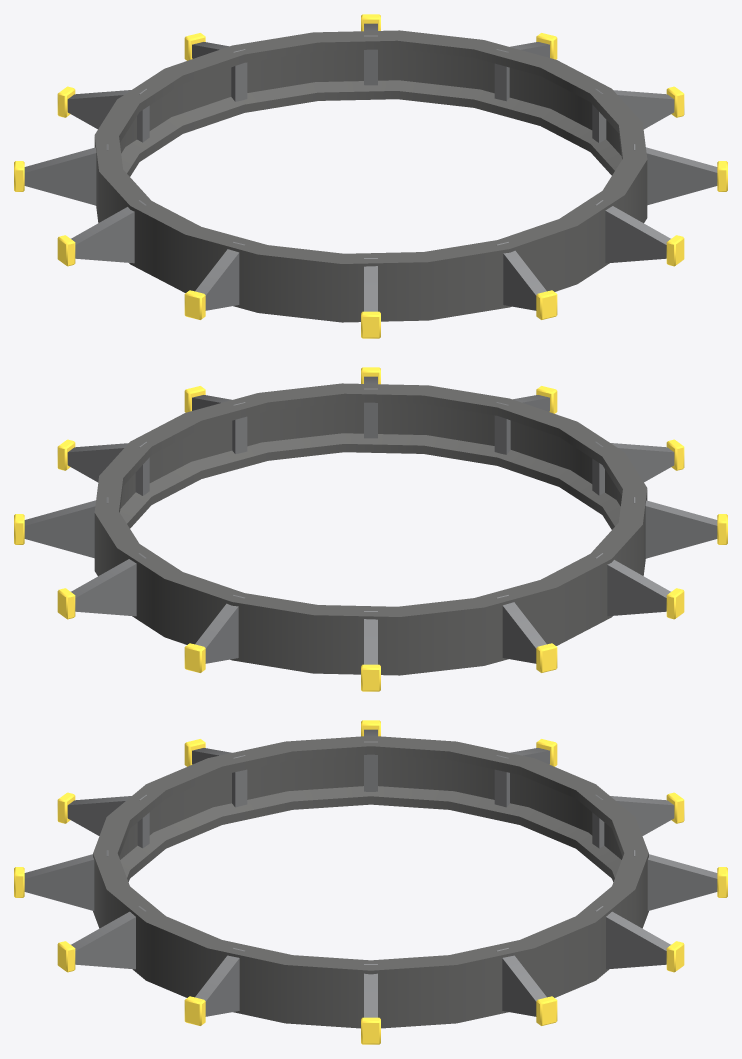
File: prop_spire_collar.glb
3 views of the same model, one above another, from view 1: azimuth 30°, elevation 25°; view 2: azimuth 150°, elevation 25°; view 3: azimuth 270°, elevation 25° (orthographic).
Visible parts, largest first — view 1: prop_spire_collar; view 2: prop_spire_collar; view 3: prop_spire_collar.
Boxes of the visible parts, <box> form: prop_spire_collar: <box>14,14,727,338</box>; prop_spire_collar: <box>14,367,727,691</box>; prop_spire_collar: <box>14,720,727,1044</box>.
Size of what is drawn, in the model's own units: 9.3 by 0.8505 by 9.3.
